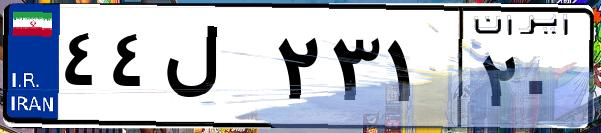0: (525, 38, 570, 115)
1: (385, 28, 445, 110)
2: (270, 28, 330, 110), (475, 38, 525, 113)
3: (330, 28, 385, 110)
4: (57, 26, 110, 100), (110, 28, 158, 98)
ل: (158, 20, 270, 120)
